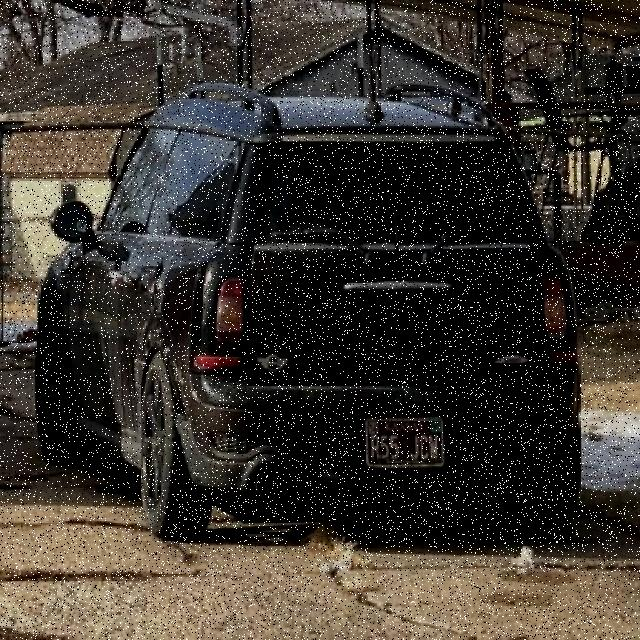licenseplate: (363, 417, 444, 468)
